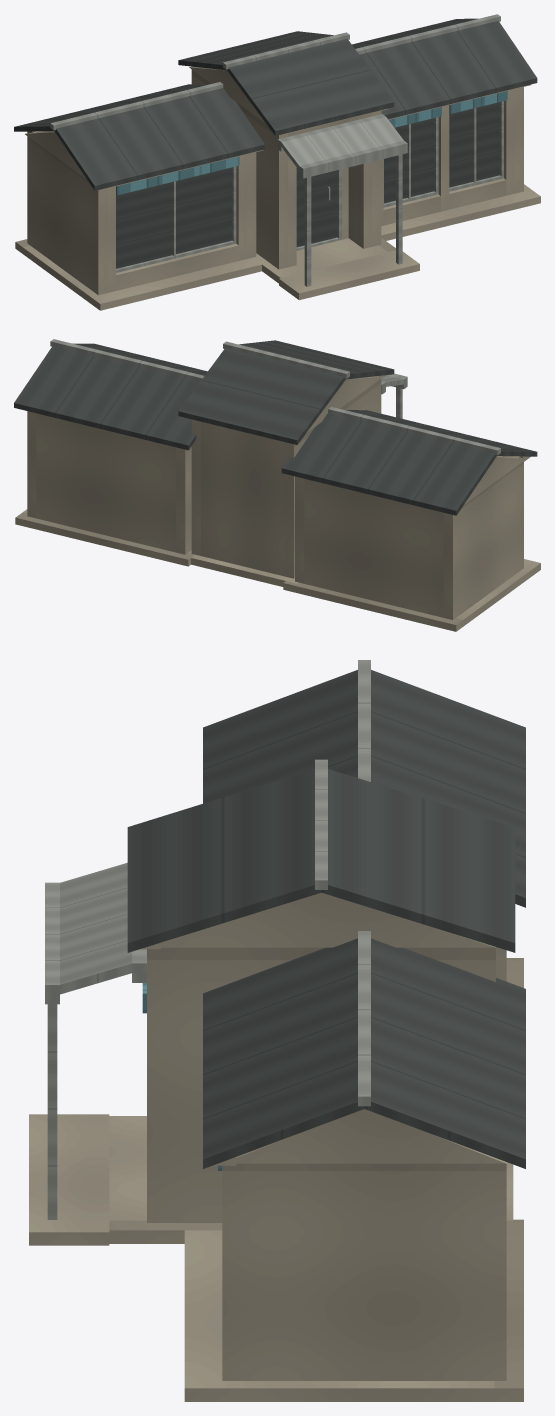
Rendered from quito.glb.
3 renders of one model, top to bottom at view 1: azimuth 30°, elevation 25°; view 2: azimuth 150°, elevation 25°; view 3: azimuth 270°, elevation 25°, orthographic. The views are drawn at different scales.
Visible parts, largest first — view 1: quito; view 2: quito; view 3: quito.
Part boxes in pixels (x1,y1,x2,y2): quito: [14, 14, 540, 310]; quito: [14, 339, 540, 631]; quito: [29, 660, 525, 1401].
Bounding box in the file's own units: 8.6 × 3.37 × 4.14.
Materials: 1 (1 with a texture image).
